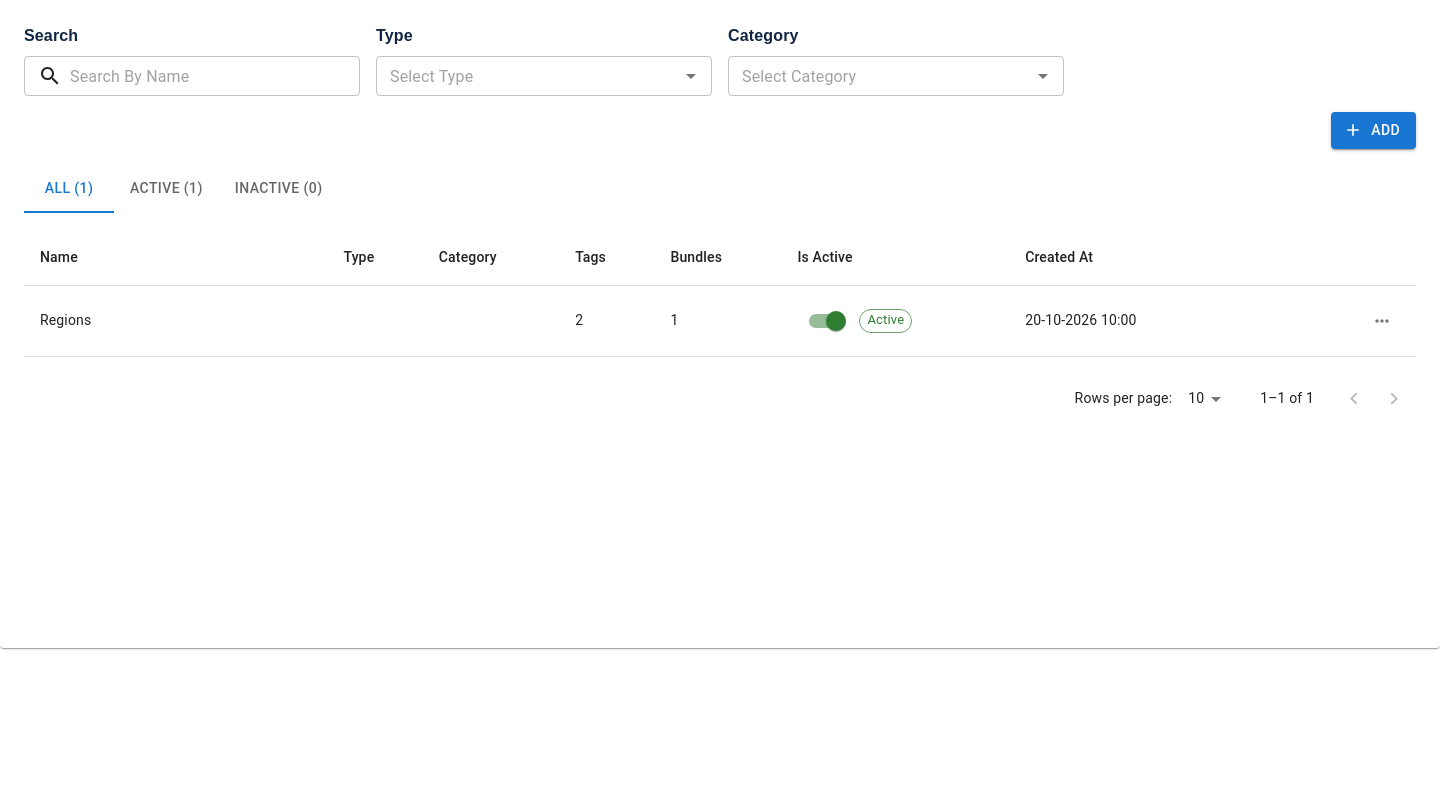
Test case: Groups list › the delete confirmation mentions the bundles using the group (TEOS-173)
Expected: the text "Regions" is shown, [24, 285, 328, 356]
Click the button named "Actions for Regions".
click(1382, 320)  # box [1364, 302, 1400, 338]
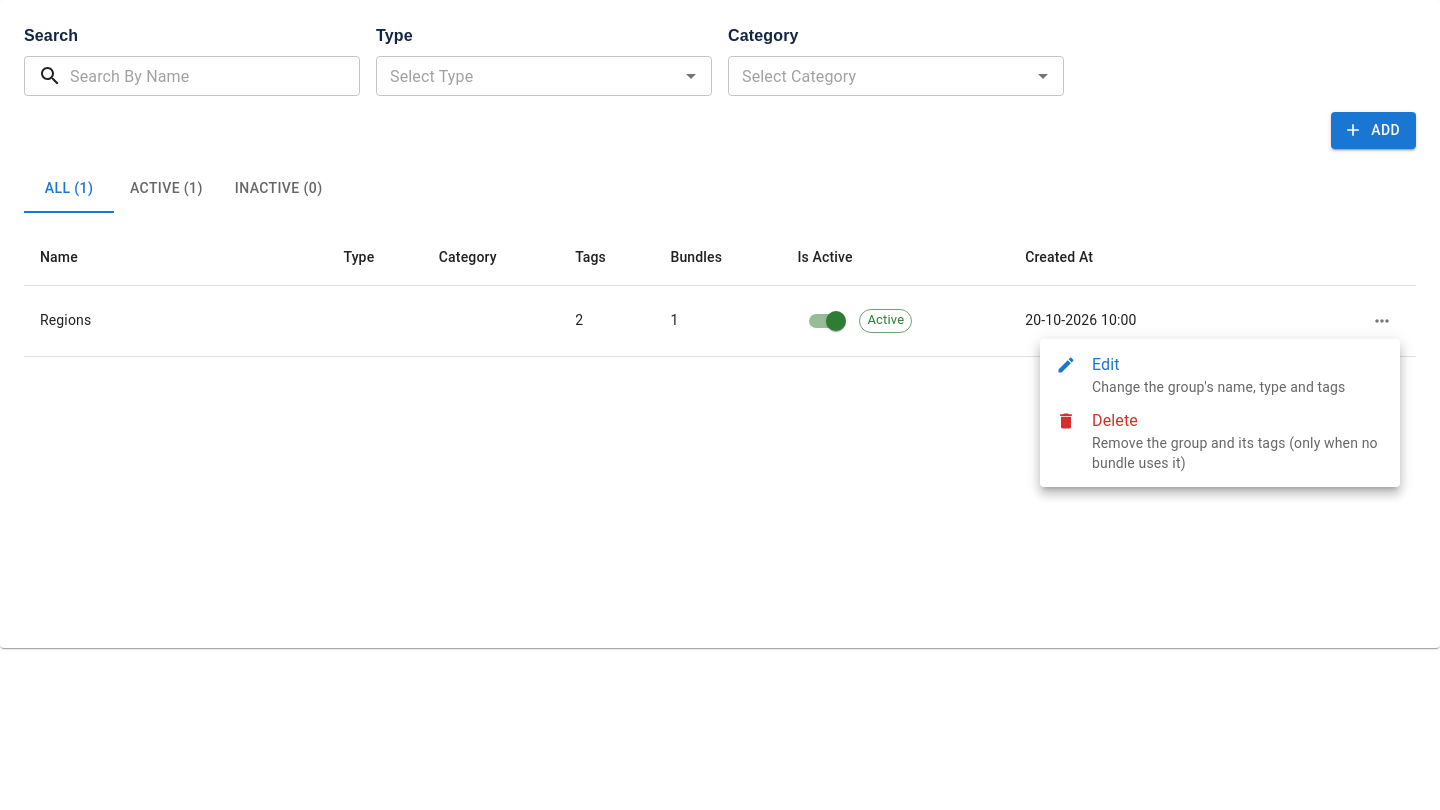
Click the menu item "Delete".
click(1220, 441)  # box [1040, 403, 1400, 479]
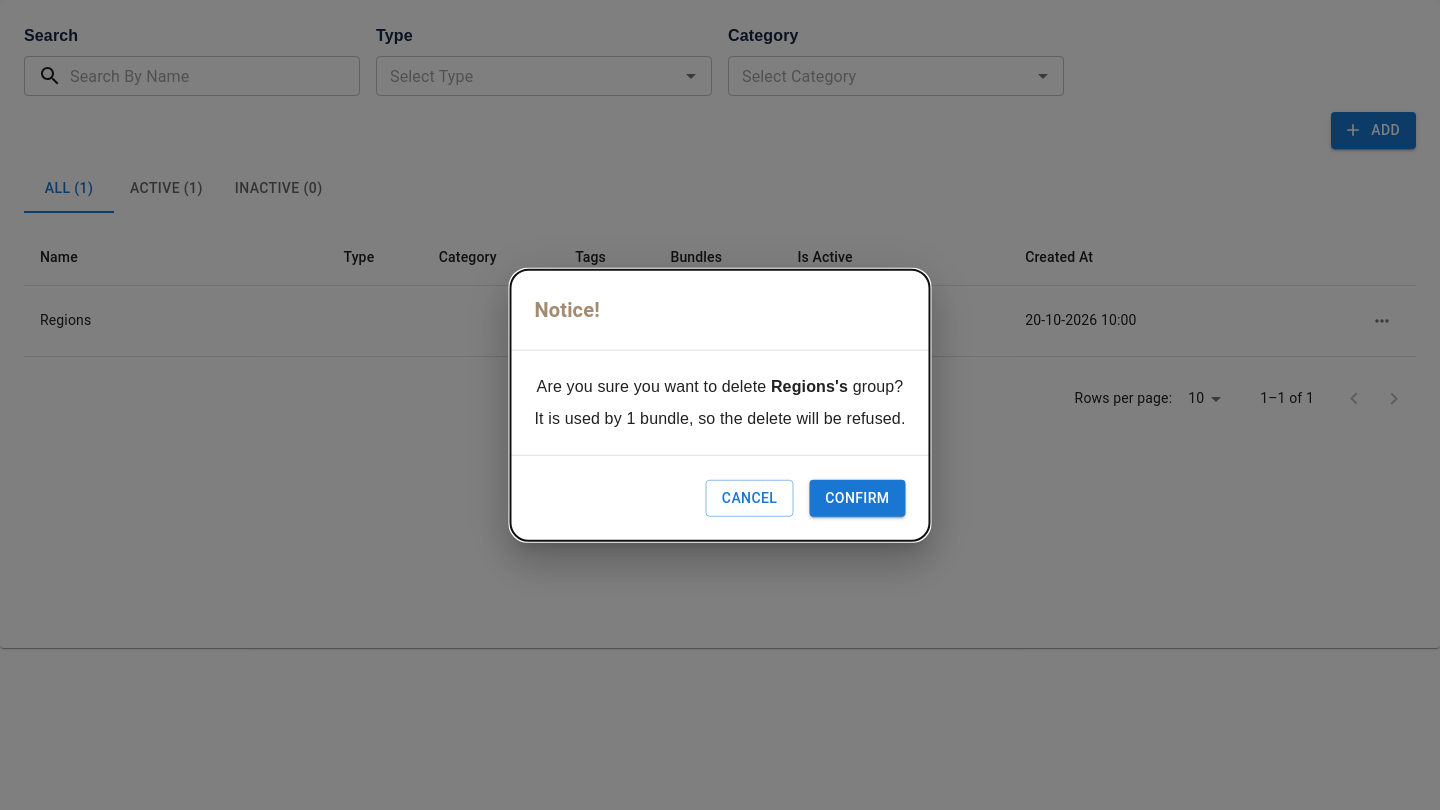
Now the text "It is used by 1 bundle, so the delete will be refused." is shown, box [534, 407, 906, 431]
